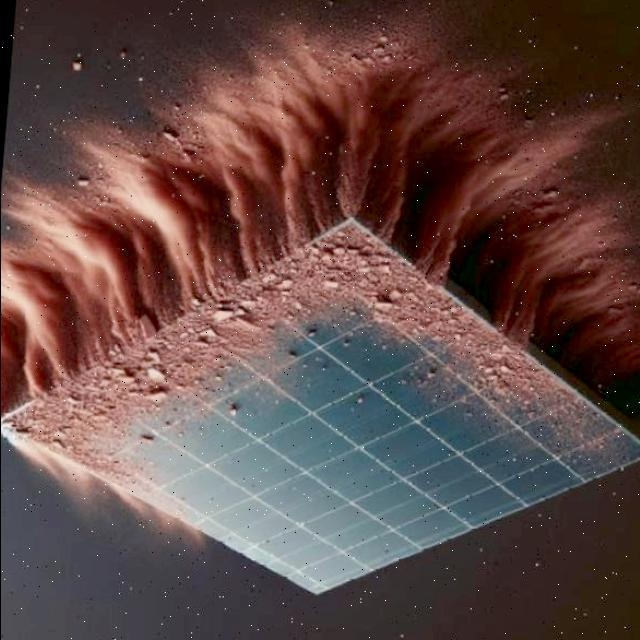Anomaly Solar Panel: (0, 131, 640, 640)
Surface Contaminant: (0, 196, 640, 534)
